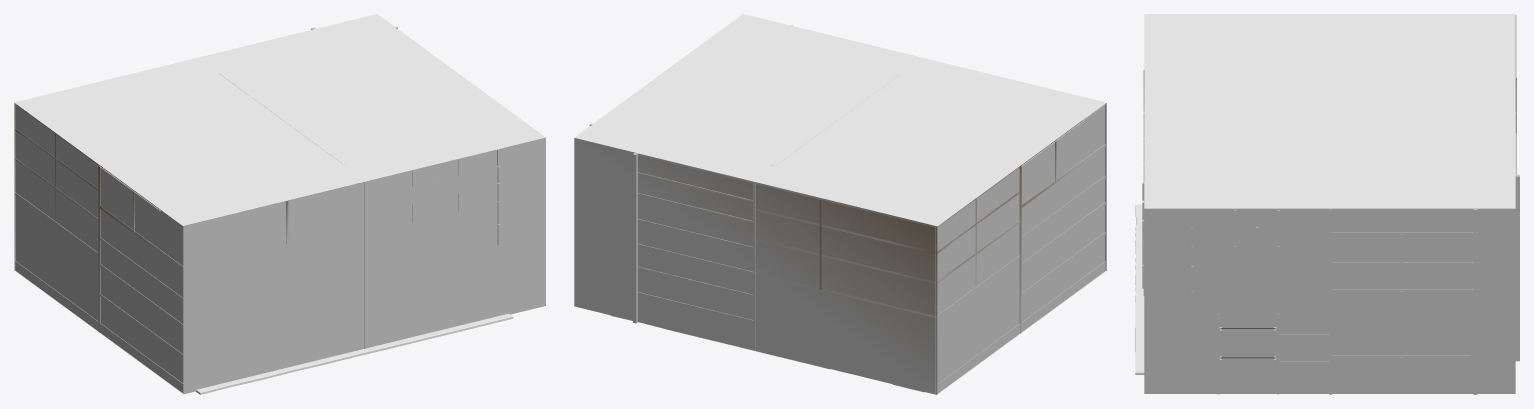
File: кладовка пустая с норм разверткой объединенная с полом (1).fbx
The picture shows the model from 3 angles, left to right: view 1: azimuth 30°, elevation 25°; view 2: azimuth 150°, elevation 25°; view 3: azimuth 270°, elevation 25°; orthographic projection. The views are drawn at different scales.
Visible parts, largest first — view 1: Plane.004; view 2: Plane.004; view 3: Plane.004.
Part boxes in pixels (left/top/right/bottom): Plane.004: left=14, top=14, right=545, bottom=394; Plane.004: left=574, top=14, right=1106, bottom=394; Plane.004: left=1135, top=14, right=1519, bottom=394.
Bounding box in the file's own units: 894 × 397 × 743.
